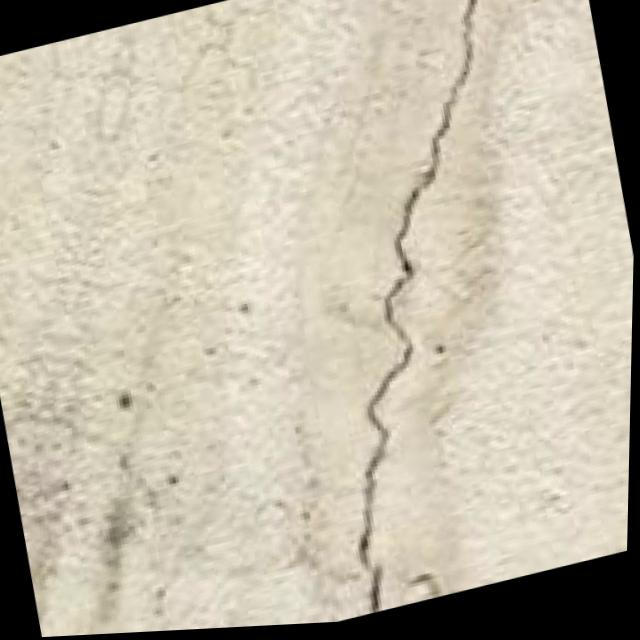Crack: (224, 0, 622, 629)
